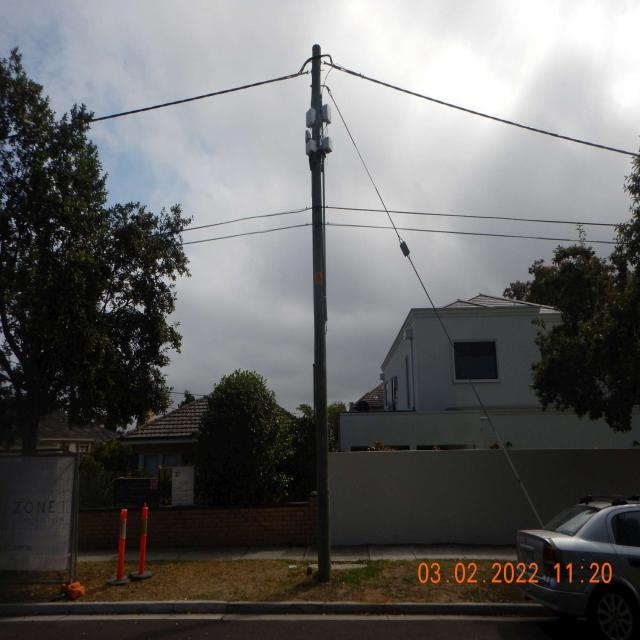small cell pole: (304, 43, 334, 583)
timber-pole: (309, 44, 332, 581)
